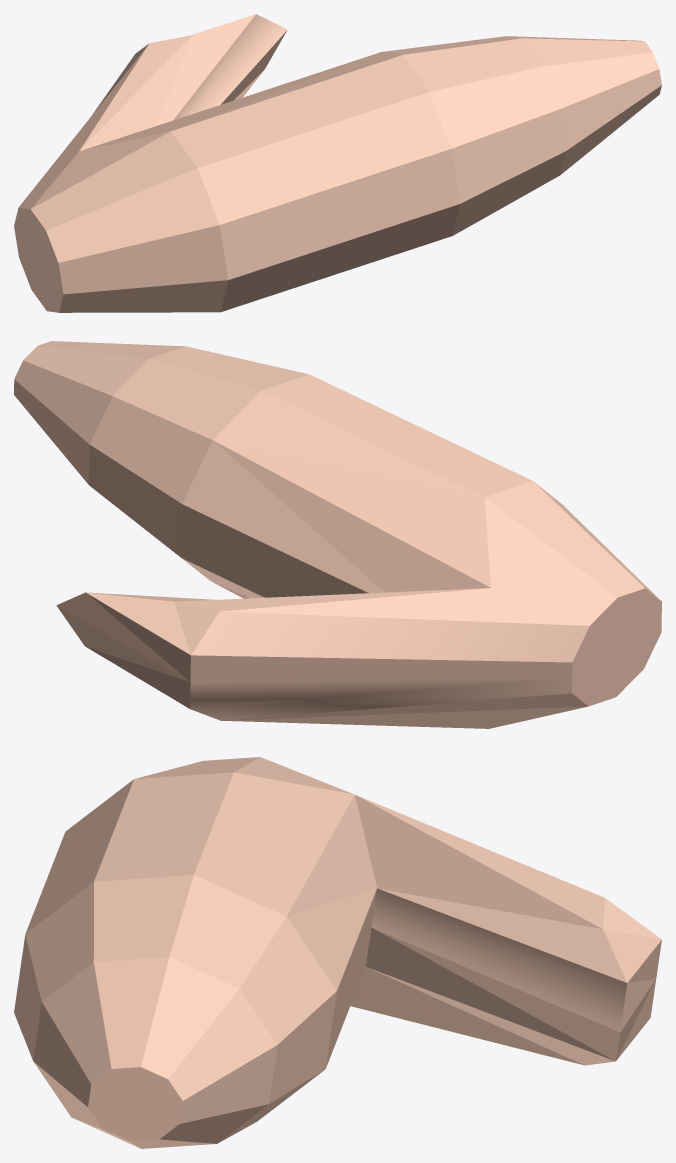
Rendered from SayapAyam.fbx.
The picture shows the model from 3 angles, top to bottom: view 1: azimuth 30°, elevation 25°; view 2: azimuth 150°, elevation 25°; view 3: azimuth 270°, elevation 25°; orthographic projection. The views are drawn at different scales.
Visible parts, largest first — view 1: SayapAyam_LOD0; view 2: SayapAyam_LOD0; view 3: SayapAyam_LOD0.
Boxes of the visible parts, left/top/right/bottom form: SayapAyam_LOD0: left=14, top=14, right=661, bottom=312; SayapAyam_LOD0: left=14, top=341, right=661, bottom=728; SayapAyam_LOD0: left=14, top=757, right=661, bottom=1148.
Size of what is drawn, in the model's own units: 49.16 by 17.05 by 33.38.
